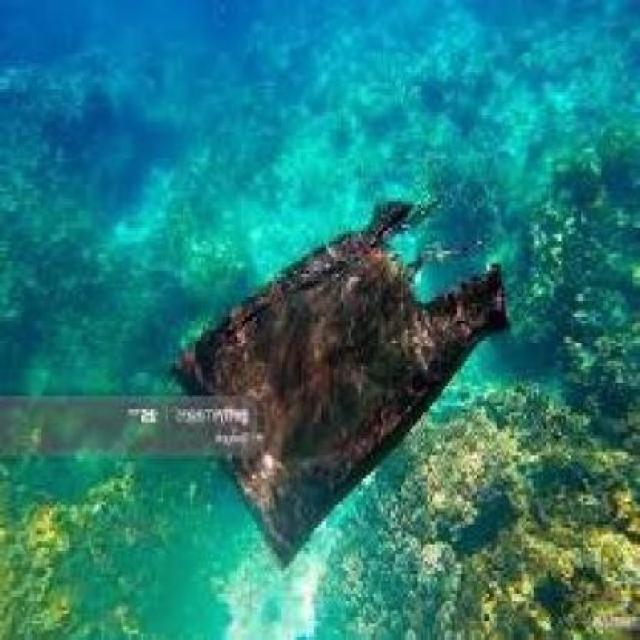pbag: (168, 198, 512, 578)
